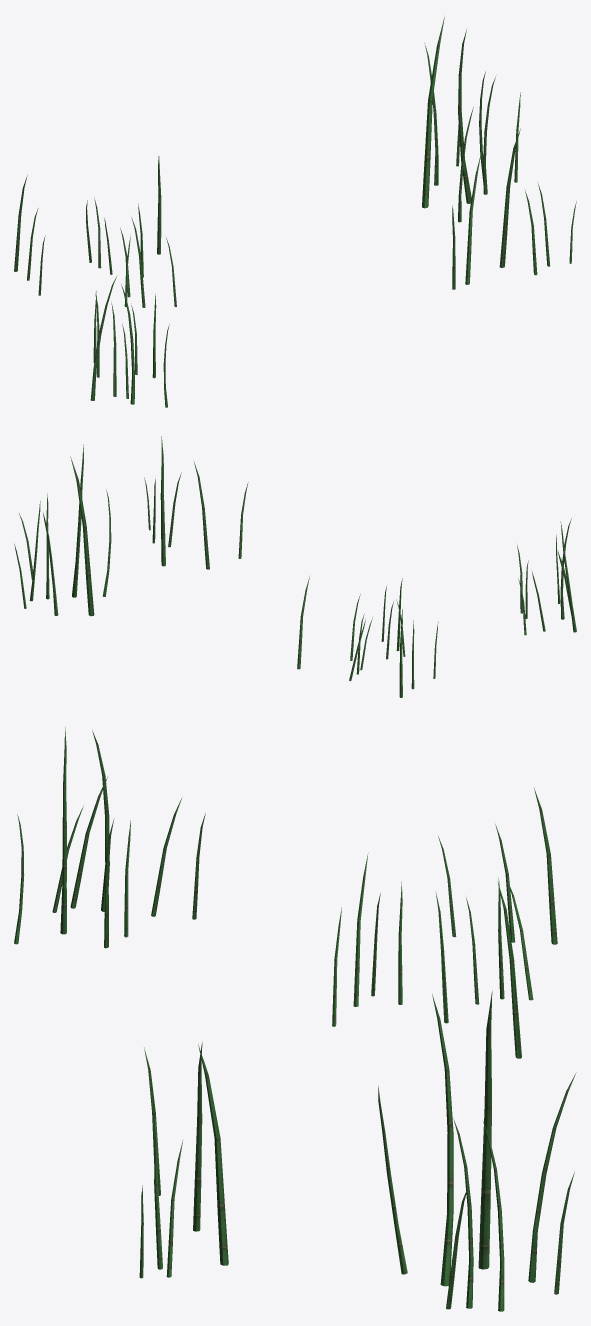
File: Area_09_25.fbx
3 views of the same model, one above another, from view 1: azimuth 30°, elevation 25°; view 2: azimuth 150°, elevation 25°; view 3: azimuth 270°, elevation 25° (orthographic). The views are drawn at different scales.
Visible parts, largest first — view 1: Area_09_25; view 2: Area_09_25; view 3: Area_09_25.
Part boxes in pixels (x1,y1,x2,y2): Area_09_25: (14,17,576,407); Area_09_25: (14,436,576,697); Area_09_25: (14,727,576,1311).
Bounding box in the file's own units: 6151 × 2003 × 3451.
